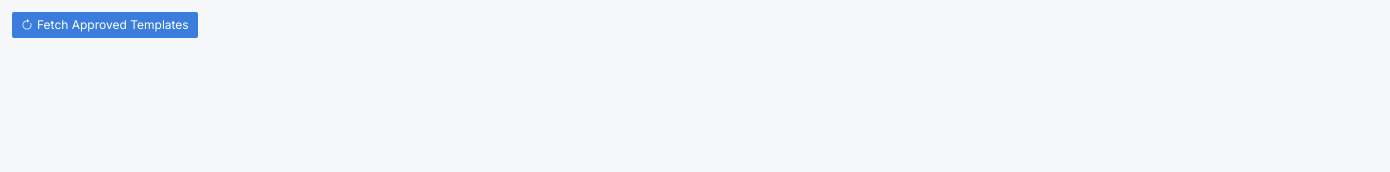
Test case: WABATemplateTesterWidget › 4. shows template count badge after successful fetch
Click the button "Fetch Approved Templates".
click(105, 25)  # box [12, 12, 198, 38]
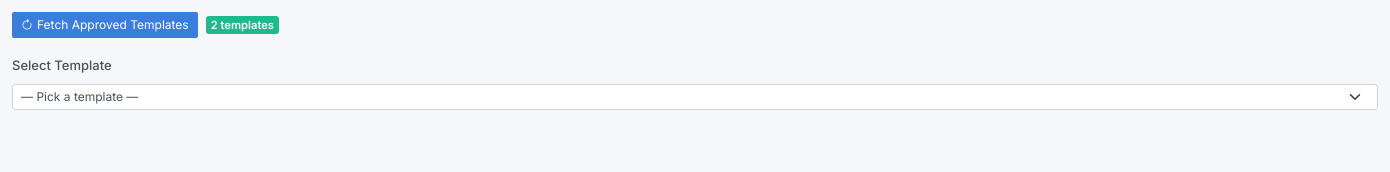
Expected: the text "2 templates" is shown, [206, 16, 279, 34]
